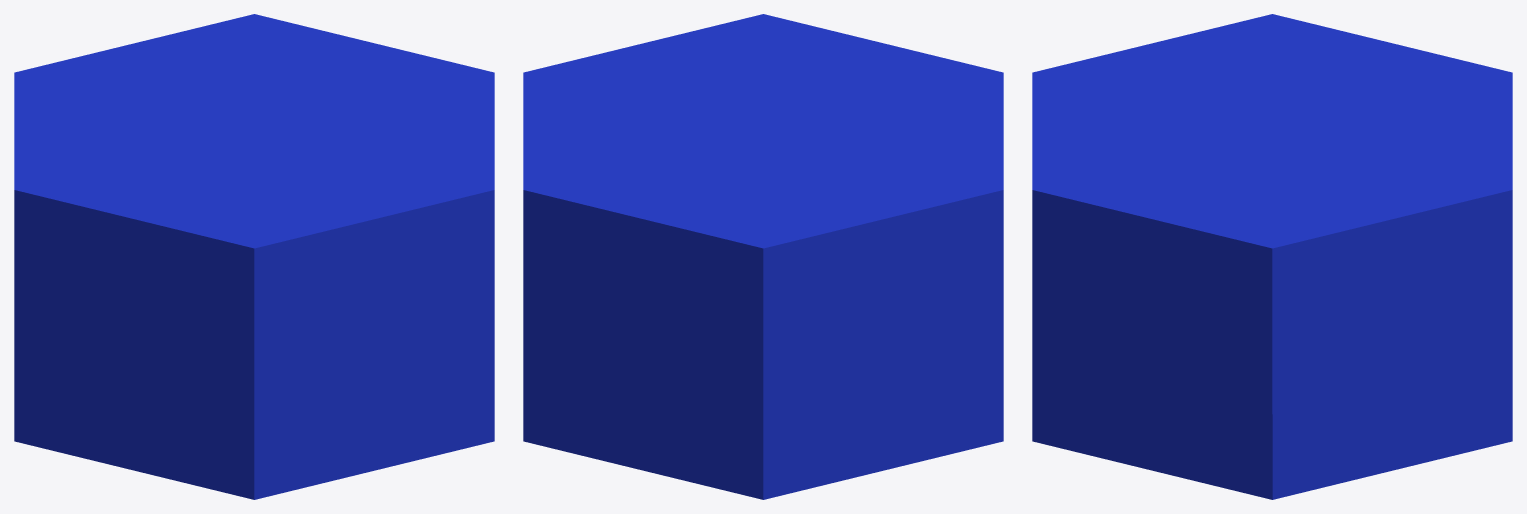
The model's file is HexBlue.fbx.
3 renders of one model, left to right at view 1: azimuth 30°, elevation 25°; view 2: azimuth 150°, elevation 25°; view 3: azimuth 270°, elevation 25°, orthographic.
Visible parts, largest first — view 1: pCylinder1; view 2: pCylinder1; view 3: pCylinder1.
Boxes of the visible parts, x1,y1,x2,y2 form: pCylinder1: [14, 14, 494, 499]; pCylinder1: [523, 14, 1003, 499]; pCylinder1: [1032, 14, 1512, 499].
Bounding box in the file's own units: 2 × 1 × 1.73.
Materials: 1 (1 with a texture image).
